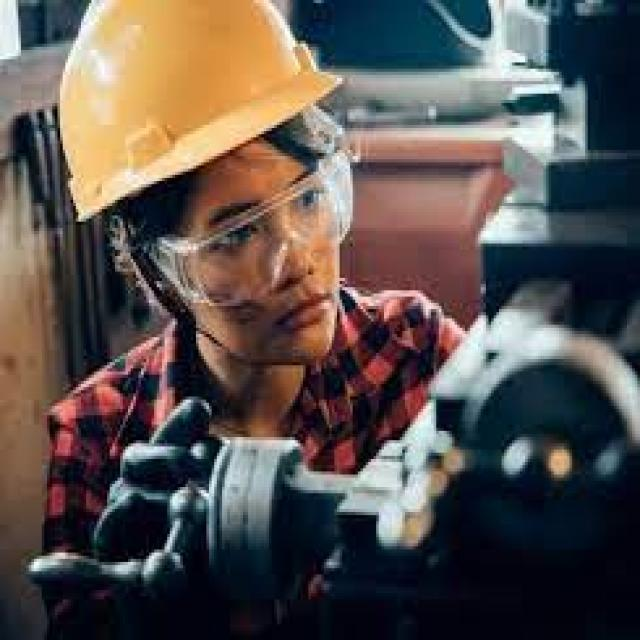Safety-Helmet: (45, 3, 352, 222)
